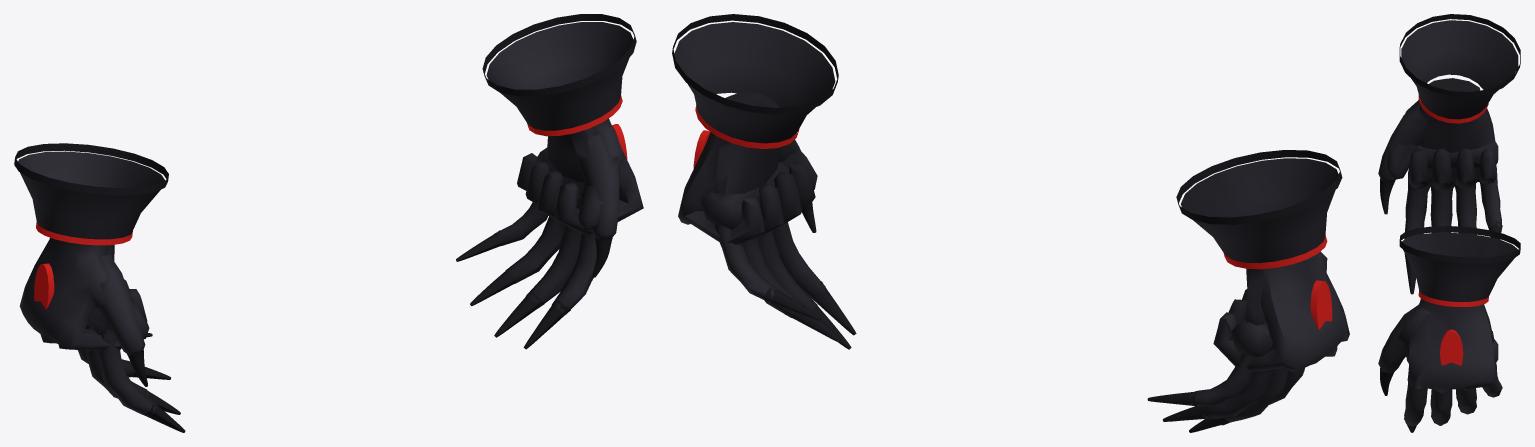
Rendered from g_emberscale_d.glb.
The picture shows the model from 3 angles, left to right: view 1: azimuth 30°, elevation 25°; view 2: azimuth 150°, elevation 25°; view 3: azimuth 270°, elevation 25°; orthographic projection. The views are drawn at different scales.
Parts seen in each view (by area): view 1: ArmL_Gauntlet, ArmL_HandOpen, ArmR_Gauntlet, ArmR_Hand, ArmR_HandOpen, ArmL_Hand; view 2: ArmL_Gauntlet, ArmR_Gauntlet, ArmL_HandOpen, ArmR_Hand, ArmL_Hand, ArmR_HandOpen; view 3: ArmR_Gauntlet, ArmR_HandOpen, ArmL_Hand, ArmL_Gauntlet, ArmR_Hand, ArmL_HandOpen.
Boxes of the visible parts, <box> form: ArmL_Gauntlet: <box>482,14,636,136</box>; ArmL_HandOpen: <box>456,126,619,349</box>; ArmR_Gauntlet: <box>14,143,168,245</box>; ArmR_Hand: <box>19,237,149,351</box>; ArmR_HandOpen: <box>78,244,185,432</box>; ArmL_Hand: <box>517,118,643,235</box>; ArmL_Gauntlet: <box>672,14,838,149</box>; ArmR_Gauntlet: <box>1176,150,1342,269</box>; ArmL_HandOpen: <box>714,97,856,349</box>; ArmR_Hand: <box>1213,251,1349,372</box>; ArmL_Hand: <box>678,92,817,244</box>; ArmR_HandOpen: <box>1147,269,1304,432</box>; ArmR_Gauntlet: <box>1399,14,1520,123</box>; ArmR_HandOpen: <box>1378,89,1502,294</box>; ArmL_Hand: <box>1398,299,1498,393</box>; ArmL_Gauntlet: <box>1399,226,1520,306</box>; ArmR_Hand: <box>1386,78,1498,190</box>; ArmL_HandOpen: <box>1378,298,1502,432</box>.
Bounding box in the file's own units: 0.7016 × 0.307 × 0.1735.
